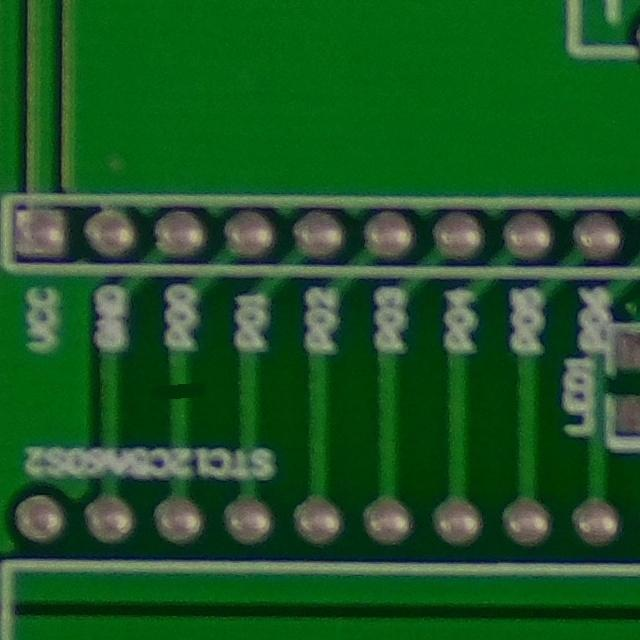open_circuit: (158, 377, 210, 408)
